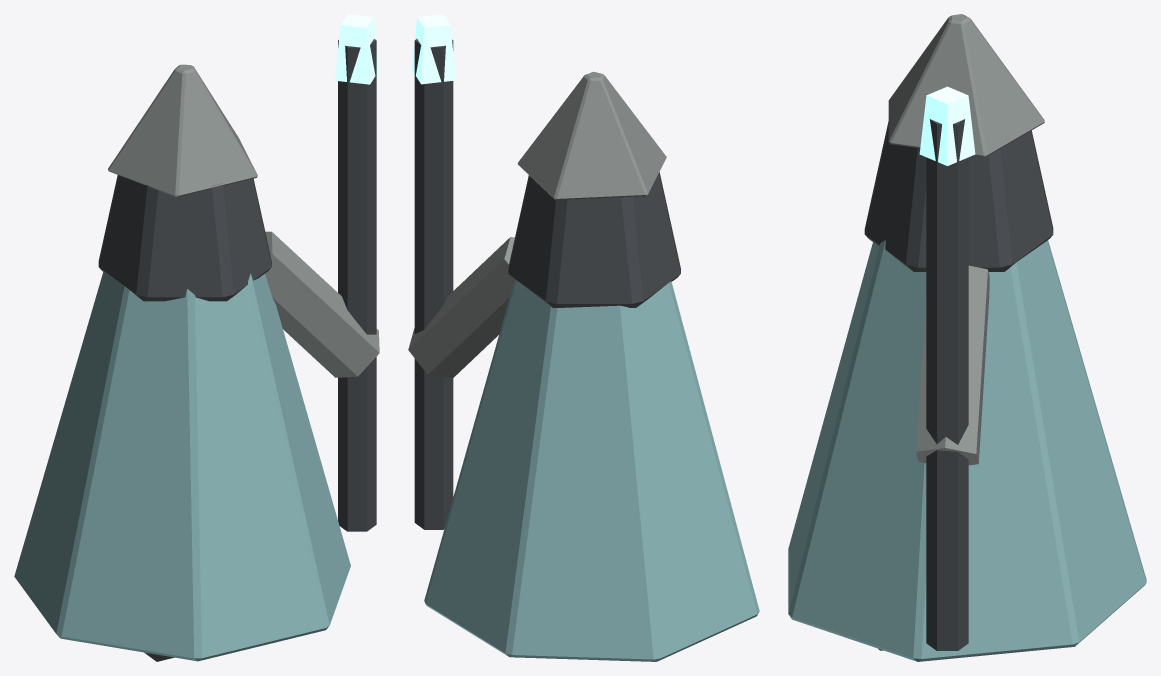
File: Staff30.fbx
3 renders of one model, left to right at view 1: azimuth 30°, elevation 25°; view 2: azimuth 150°, elevation 25°; view 3: azimuth 270°, elevation 25°, orthographic. The views are drawn at different scales.
Visible parts, largest first — view 1: CHR_Player; view 2: CHR_Player; view 3: CHR_Player.
Part boxes in pixels (x1,y1,x2,y2): CHR_Player: (14, 14, 379, 661); CHR_Player: (408, 14, 759, 661); CHR_Player: (788, 14, 1146, 661).
Size of the model in its own units: 1.81 by 2.9 by 1.54.
